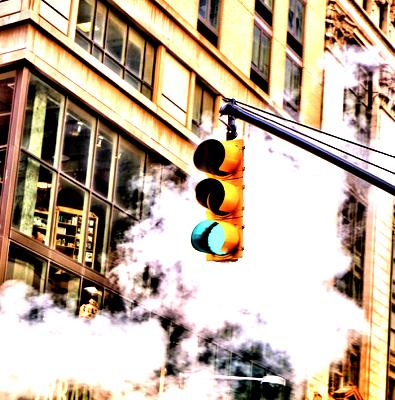International Road Signal Light: (190, 136, 246, 262)
